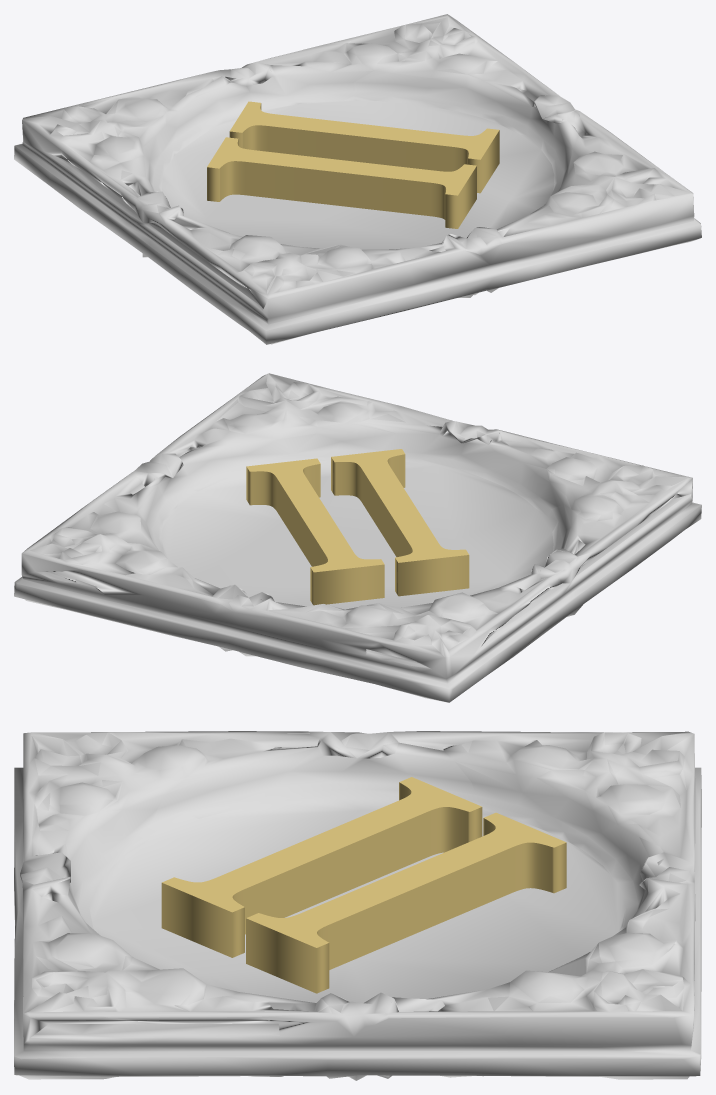
The model's file is sp_tile2.glb.
3 renders of one model, top to bottom at view 1: azimuth 30°, elevation 25°; view 2: azimuth 150°, elevation 25°; view 3: azimuth 270°, elevation 25°, orthographic. The views are drawn at different scales.
Parts seen in each view (by area): view 1: テキスト; view 2: テキスト; view 3: テキスト.
Boxes of the visible parts, <box> form: テキスト: <box>14,14,701,344</box>; テキスト: <box>14,373,701,702</box>; テキスト: <box>14,731,701,1080</box>.
Bounding box in the file's own units: 3.6 × 0.5 × 3.6.
